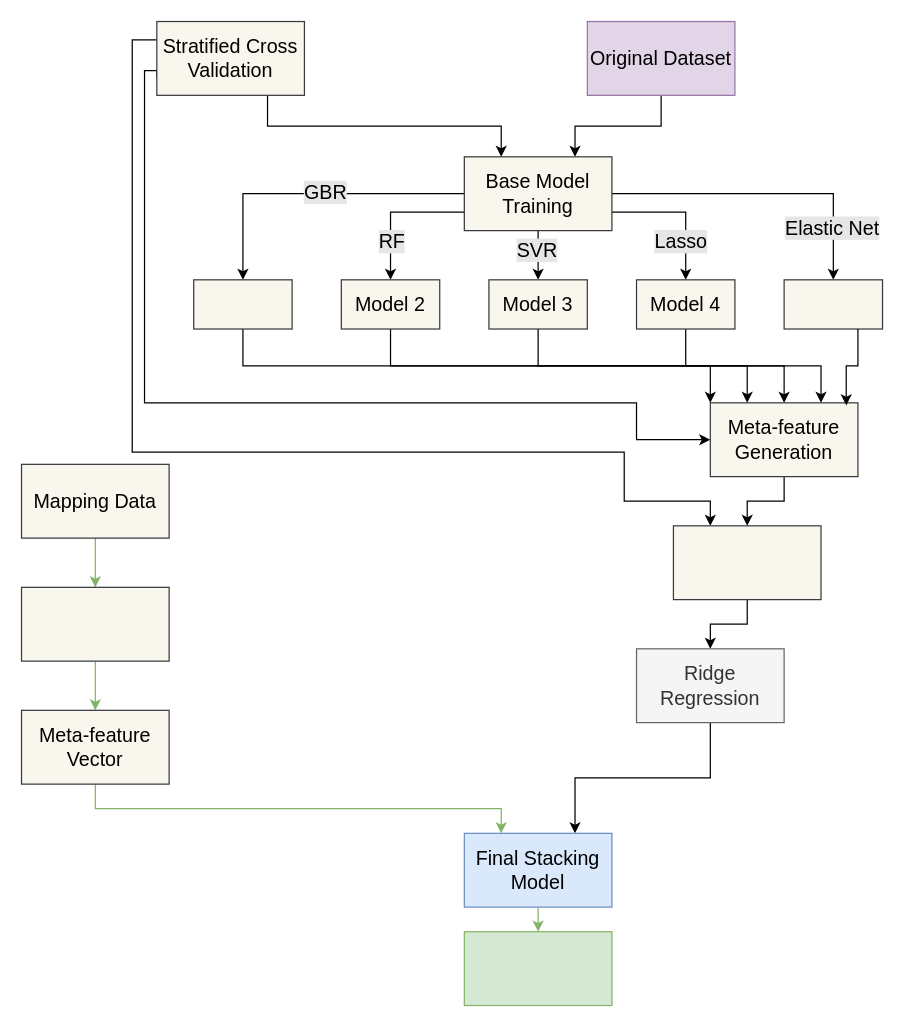
This 904x1027 diagram has some shape labels left out. Here are the shapes that lost their labels. From the top down, the centre of each, then its label:
At [242,304]: "Model 1".
At [833,304]: "Model 5".
At [746,562]: "Meta-model Training".
At [94,623]: "Base Model Predictions".
At [537,968]: "Final Prediction".
